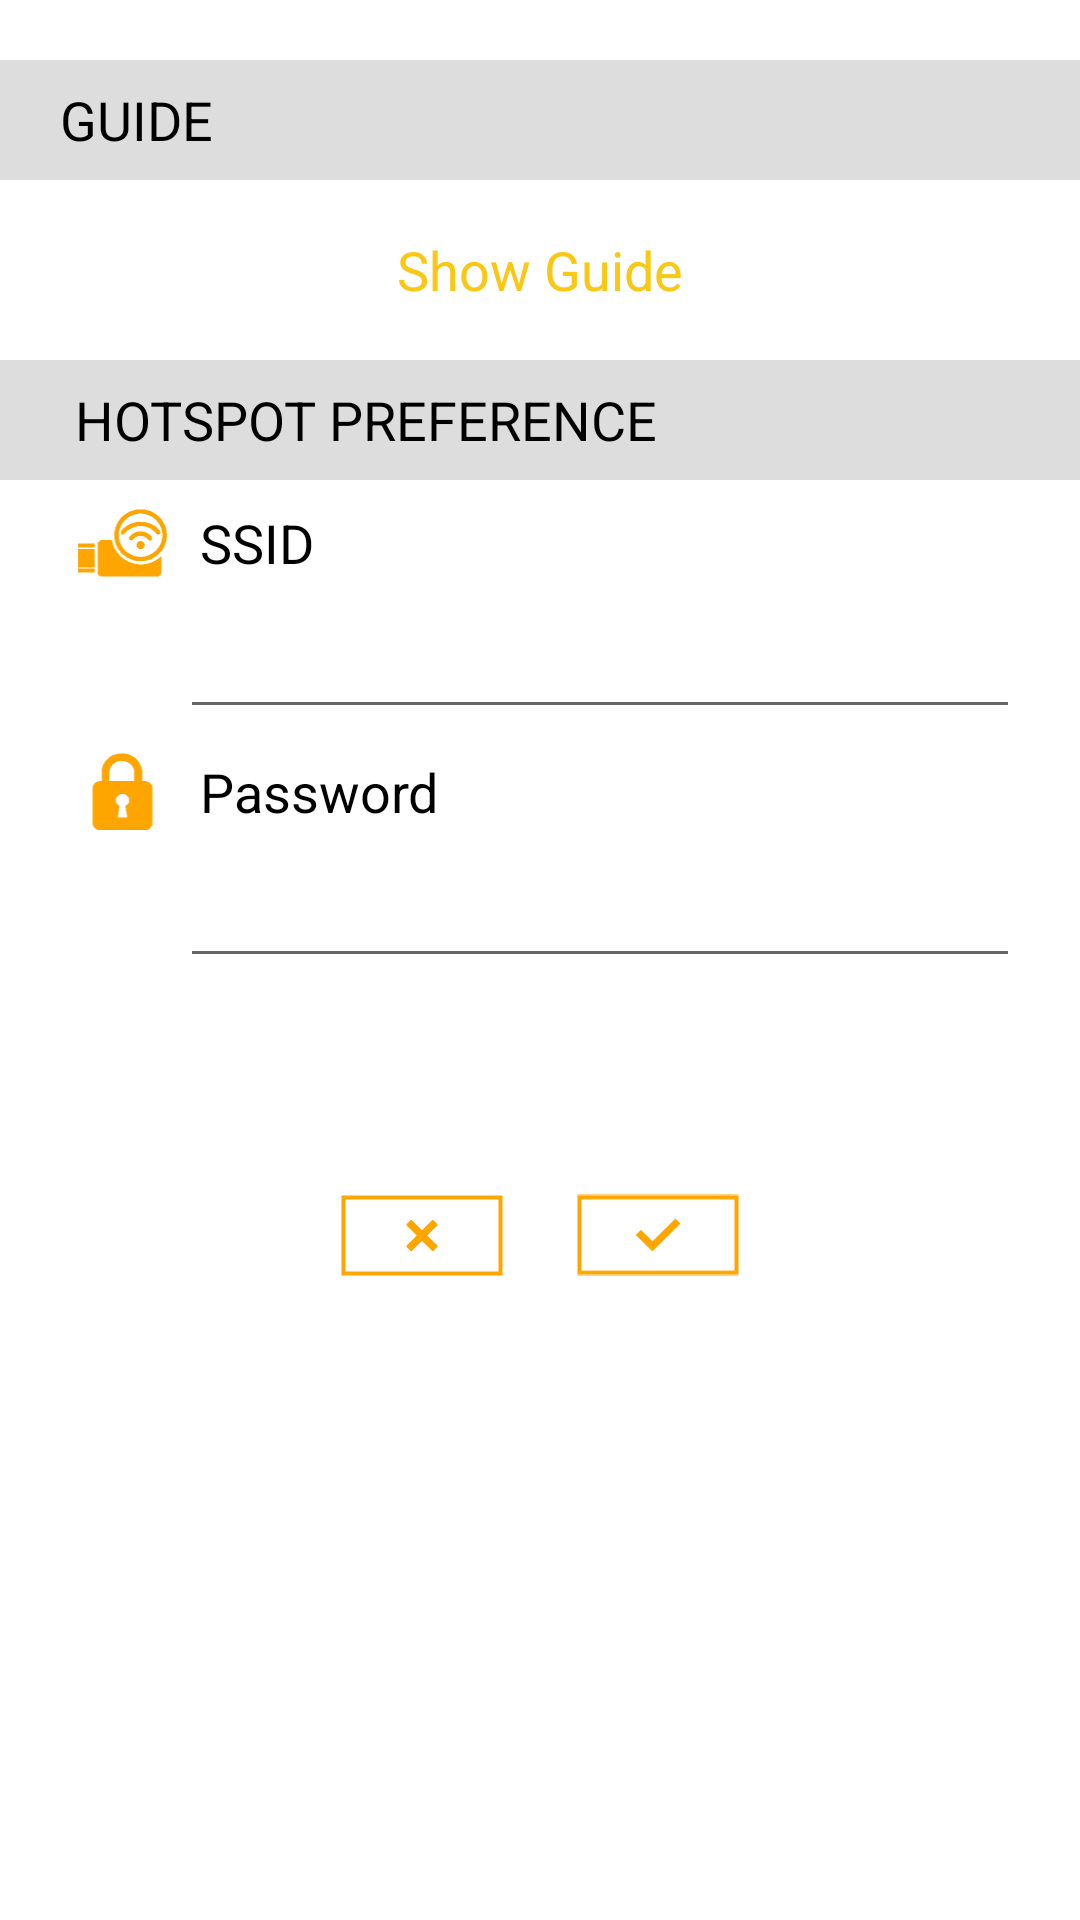

Screen size 1080 × 1920. Icon name, then its box in pixels as (x1, y1, x2, y2):
hotspot cancel: (341, 1195, 503, 1276)
hotspot ok: (577, 1194, 739, 1276)
